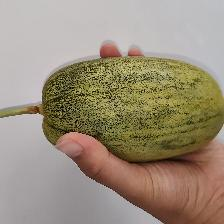gua: (45, 62, 210, 151)
